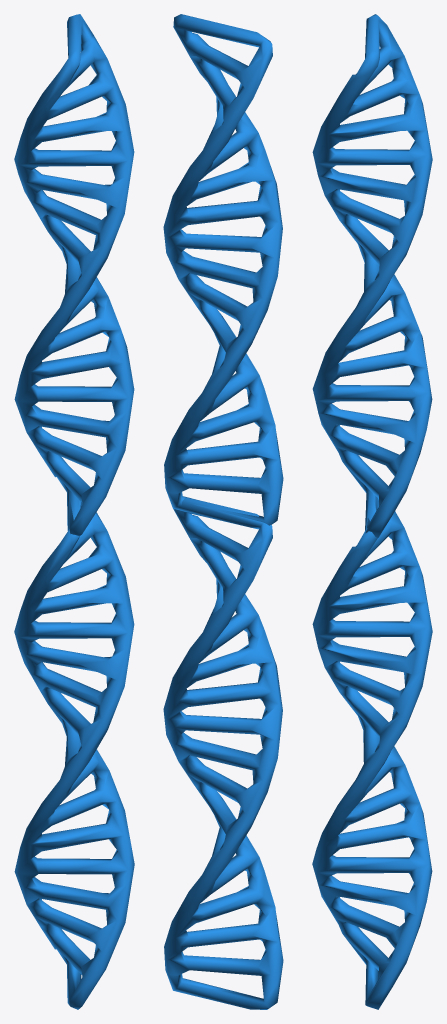
The model's file is dna.gltf.
The picture shows the model from 3 angles, left to right: view 1: azimuth 90°, elevation 25°; view 2: azimuth 150°, elevation 25°; view 3: azimuth 270°, elevation 25°; orthographic projection. The views are drawn at different scales.
Visible parts, largest first — view 1: Plane.001; view 2: Plane.001; view 3: Plane.001.
Part boxes in pixels (left/top/right/bottom): Plane.001: left=14, top=14, right=134, bottom=1009; Plane.001: left=163, top=14, right=283, bottom=1009; Plane.001: left=312, top=14, right=432, bottom=1009.
Bounding box in the file's own units: 2.26 × 20.29 × 2.31.
